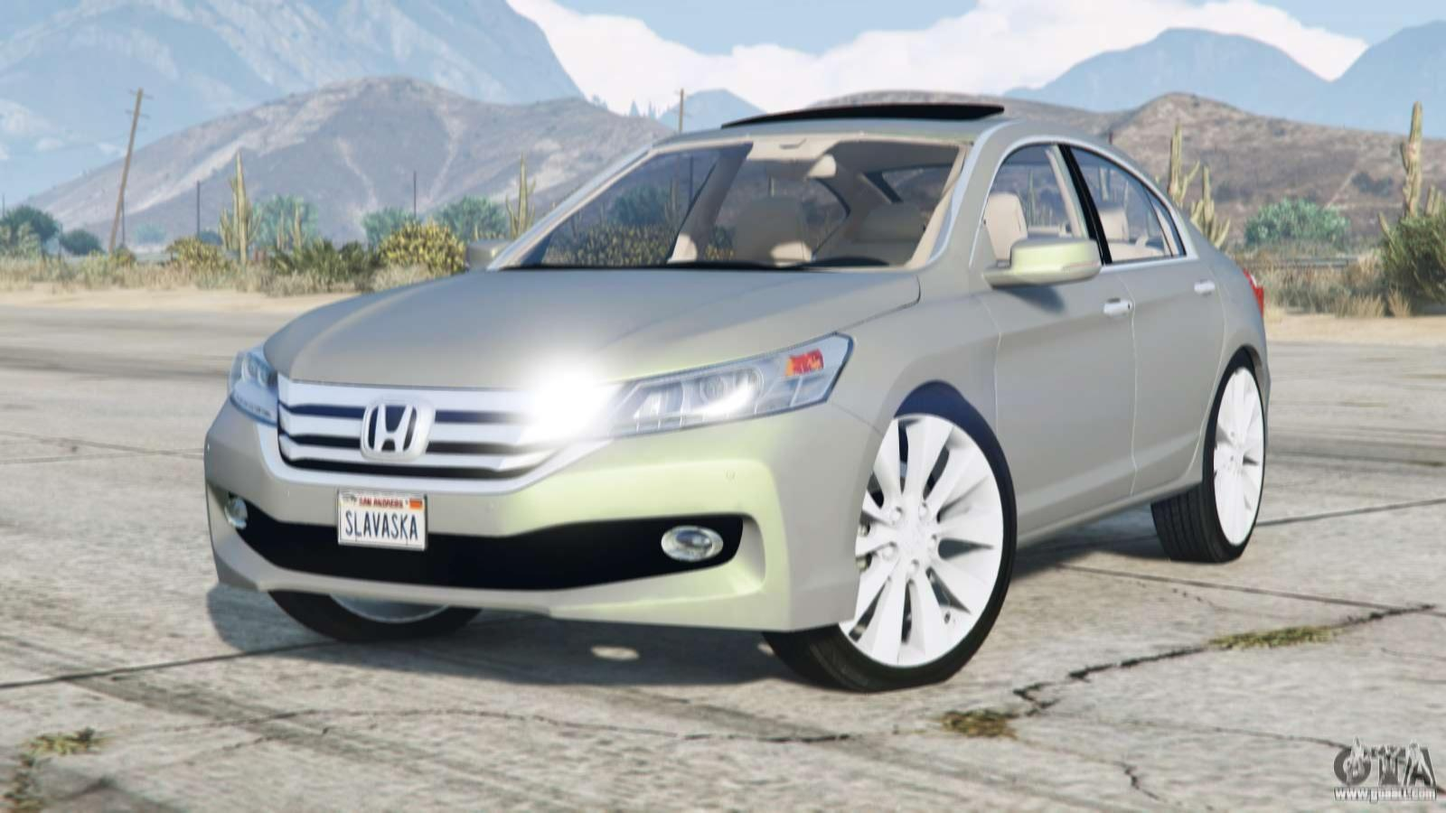Car hood: (256, 260, 936, 393)
Fender - -F-L-: (802, 249, 1026, 569)
Fender - -R-R-: (1182, 261, 1264, 522)
Front bumper: (182, 397, 881, 642)
Headlight - -L-: (592, 323, 886, 448)
Headlight - -R-: (206, 330, 307, 436)
Passenger-s door - -F-L-: (972, 114, 1135, 540)
Passenger-s door - -R-L-: (1100, 136, 1225, 502)
Rear light - -L-: (1238, 255, 1291, 329)
Side bumper - -L-: (997, 446, 1204, 557)
Side mirror - -L-: (983, 231, 1110, 298)
Side mirror - -R-: (450, 219, 531, 286)
